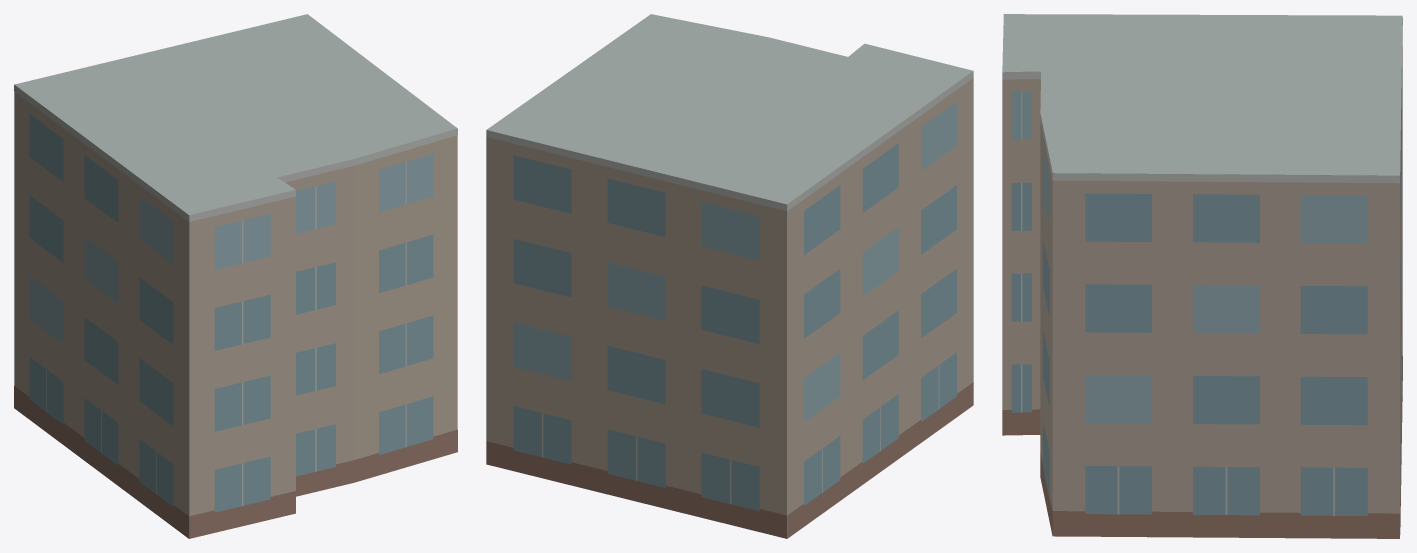
Rendered from survey-upis-32609823.glb.
The picture shows the model from 3 angles, left to right: view 1: azimuth 30°, elevation 25°; view 2: azimuth 150°, elevation 25°; view 3: azimuth 270°, elevation 25°; orthographic projection. The views are drawn at different scales.
Parts seen in each view (by area): view 1: survey-upis-32609823.tmp; view 2: survey-upis-32609823.tmp; view 3: survey-upis-32609823.tmp.
Part boxes in pixels (left/top/right/bottom): survey-upis-32609823.tmp: left=14, top=14, right=457, bottom=538; survey-upis-32609823.tmp: left=486, top=14, right=973, bottom=538; survey-upis-32609823.tmp: left=1002, top=14, right=1402, bottom=538.
Bounding box in the file's own units: 11.17 × 11.7 × 11.7.
